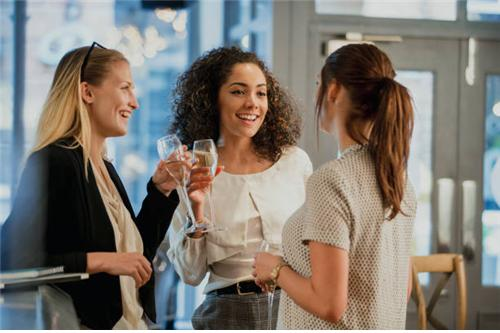alcohol: (157, 133, 203, 235), (190, 140, 228, 237)
